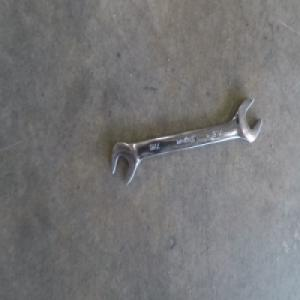Wrench: (106, 96, 259, 186)
